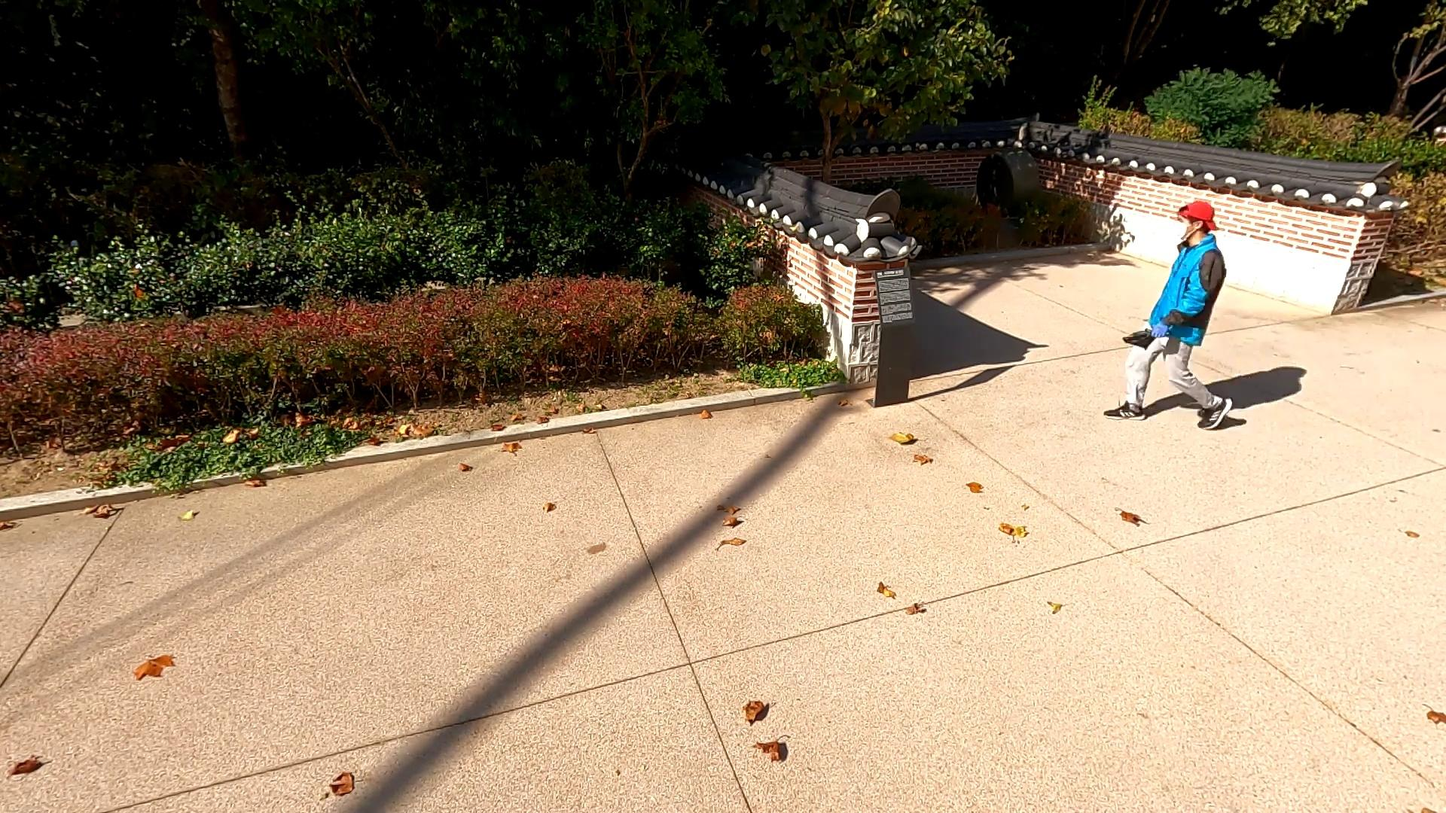person: (1103, 197, 1238, 431)
trash: (1120, 322, 1162, 351)
